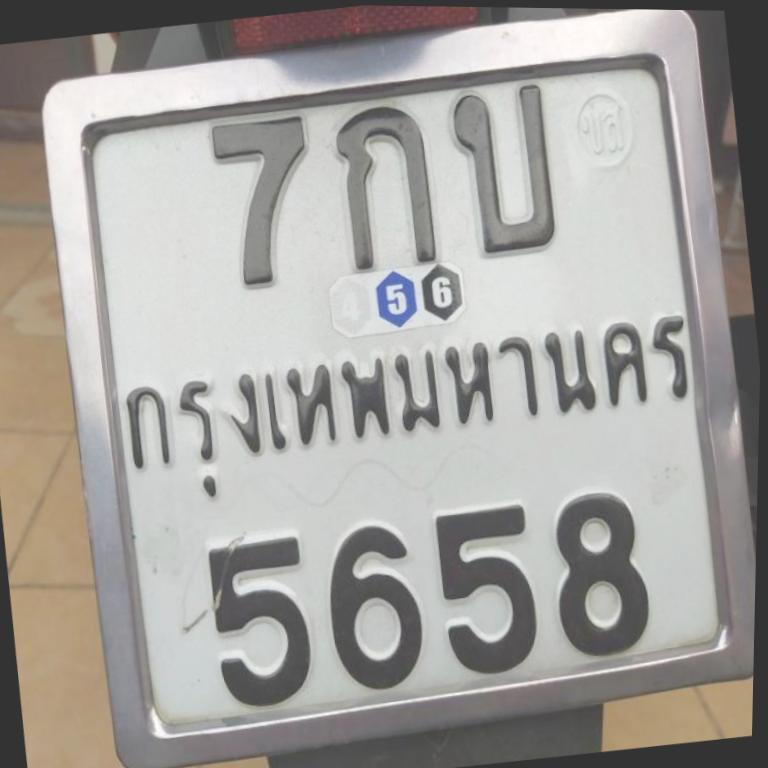license plate: (43, 10, 755, 768)
